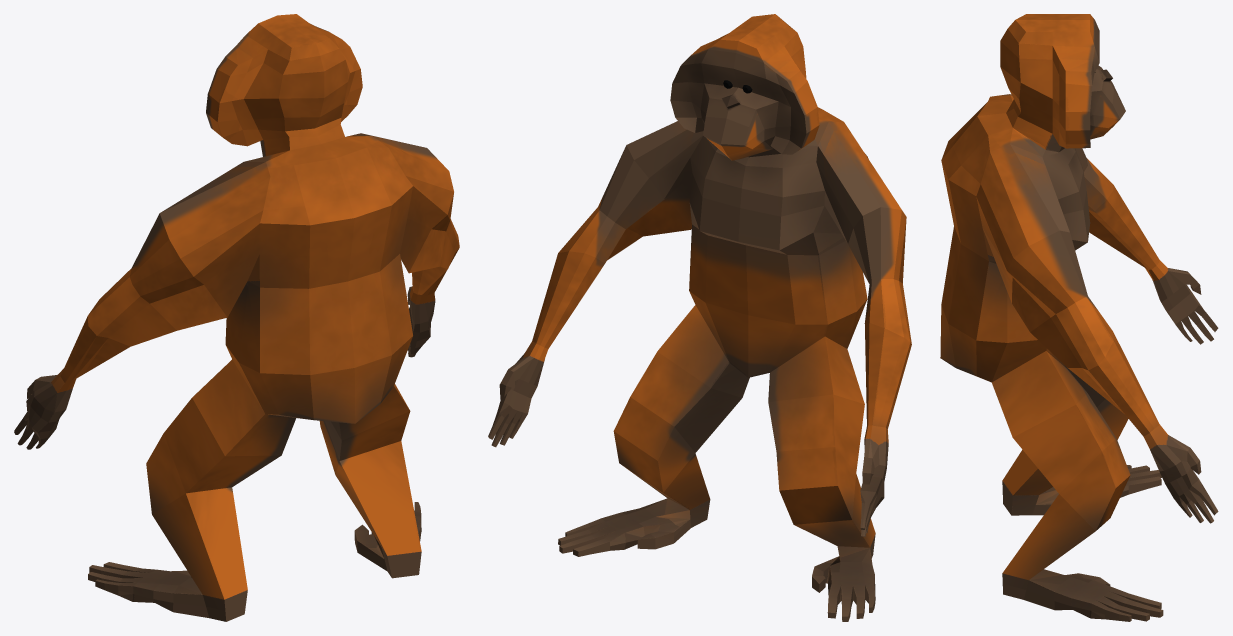
Rendered from Orangutan.obj.
3 renders of one model, left to right at view 1: azimuth 30°, elevation 25°; view 2: azimuth 150°, elevation 25°; view 3: azimuth 270°, elevation 25°, orthographic. The views are drawn at different scales.
Visible parts, largest first — view 1: Orangutan_Cube.008; view 2: Orangutan_Cube.008; view 3: Orangutan_Cube.008.
Boxes of the visible parts, x1,y1,x2,y2 form: Orangutan_Cube.008: (14,14,459,621); Orangutan_Cube.008: (488,14,911,621); Orangutan_Cube.008: (940,14,1218,621).
Bounding box in the file's own units: 1 × 1.32 × 0.6228.
